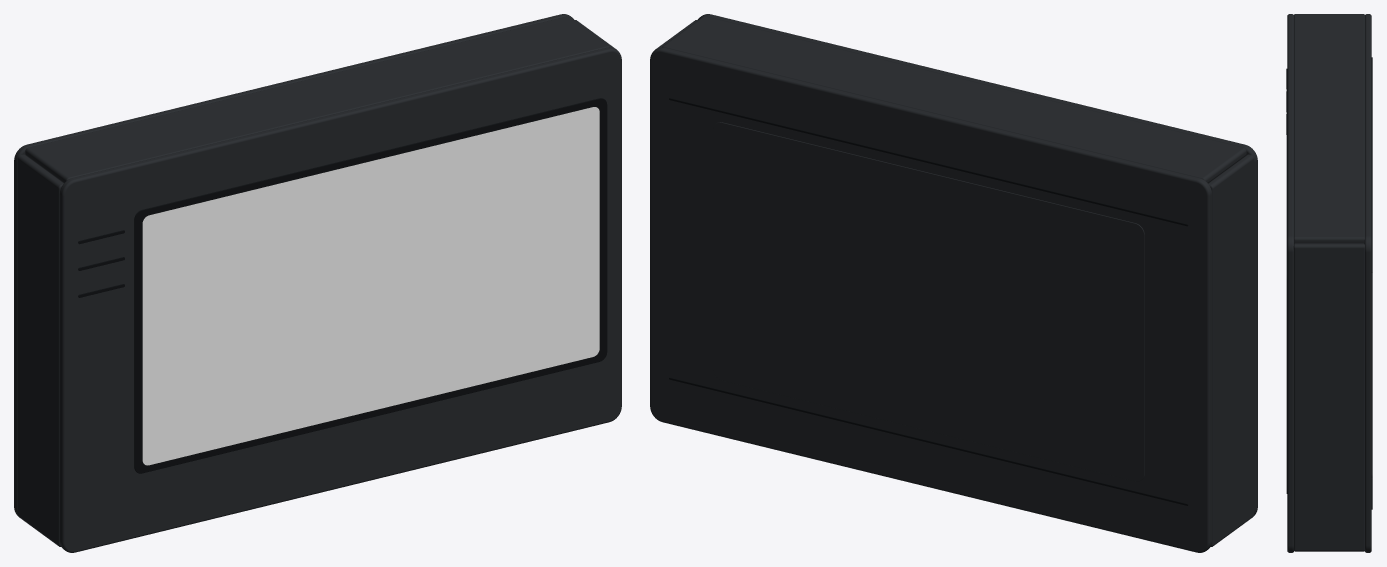
The model's file is msx_cartridge_jp.glb.
3 renders of one model, left to right at view 1: azimuth 30°, elevation 25°; view 2: azimuth 150°, elevation 25°; view 3: azimuth 270°, elevation 25°, orthographic. The views are drawn at different scales.
Parts seen in each view (by area): view 1: artwork_front, shell_front, shell_top, shell_side, front_label_recess, shell_back; view 2: rear_moulding, shell_back, shell_top, shell_side, shell_front, rear_seam (×2); view 3: shell_side, shell_top, shell_back, shell_front, front_label_recess, rear_seam, rear_moulding.
Boxes of the visible parts, x1,y1,x2,y2 form: artwork_front: (142, 107, 599, 465); shell_front: (59, 47, 621, 552); shell_top: (25, 16, 609, 182); shell_side: (17, 154, 63, 546); front_label_recess: (134, 98, 607, 473); shell_back: (14, 14, 573, 515); rear_moulding: (713, 122, 1144, 481); shell_back: (650, 47, 1212, 552); shell_top: (662, 16, 1246, 182); shell_side: (1208, 154, 1254, 546); shell_front: (698, 14, 1257, 515); rear_seam (×2): (669, 98, 1188, 505); shell_side: (1293, 243, 1364, 551); shell_top: (1294, 14, 1364, 243); shell_back: (1364, 14, 1371, 552); shell_front: (1287, 14, 1294, 552); front_label_recess: (1286, 81, 1287, 493); rear_seam: (1371, 57, 1372, 272); rear_moulding: (1371, 273, 1372, 478).
Size of the model in its own units: 0.109 by 0.0694 by 0.0172.
5 materials, 1 textured.
